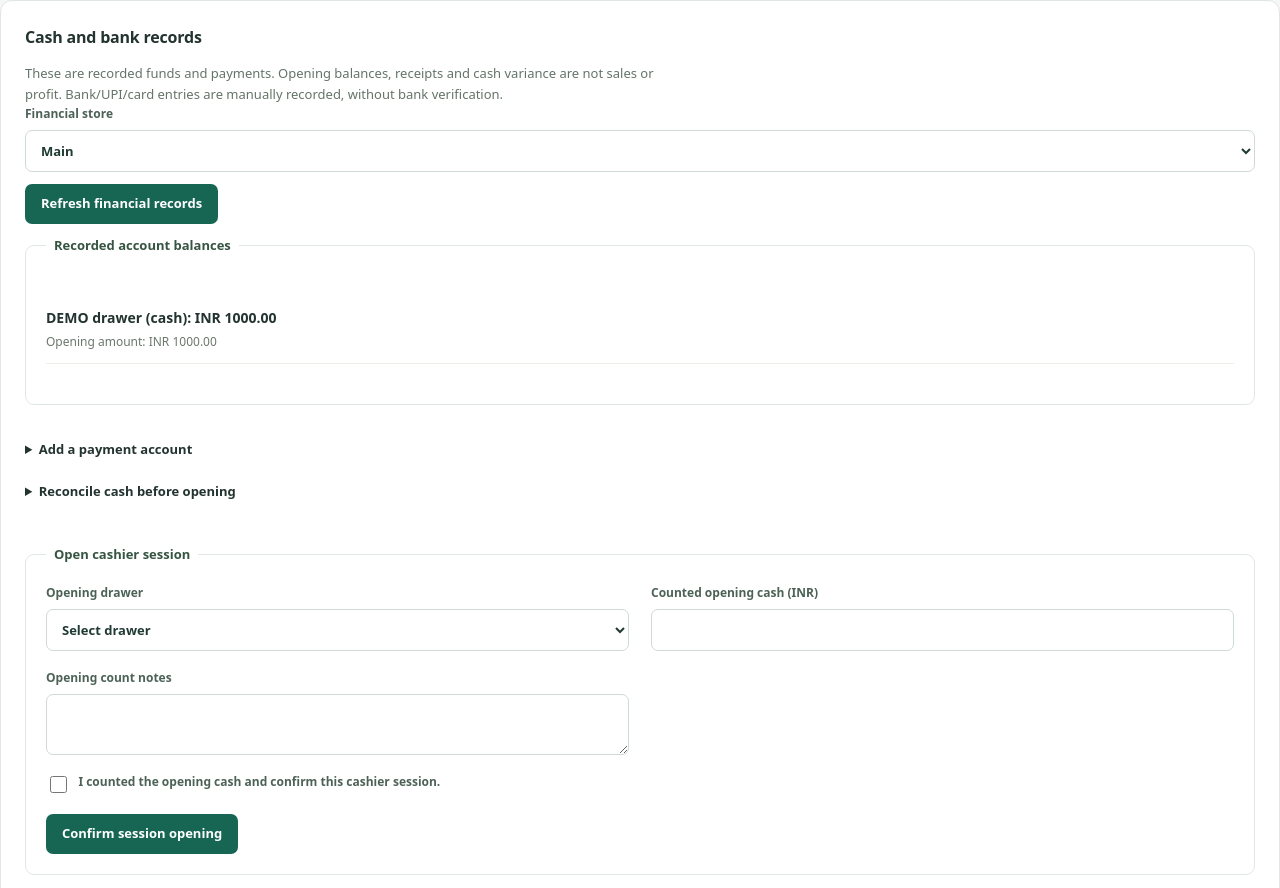
Scenario: expense and cashier finance flows › records owner-reviewed opening differences separately from receipts or expenses
Step 1. Click the heading "Reconcile cash before opening" → (137,491), box [39,482,236,500]
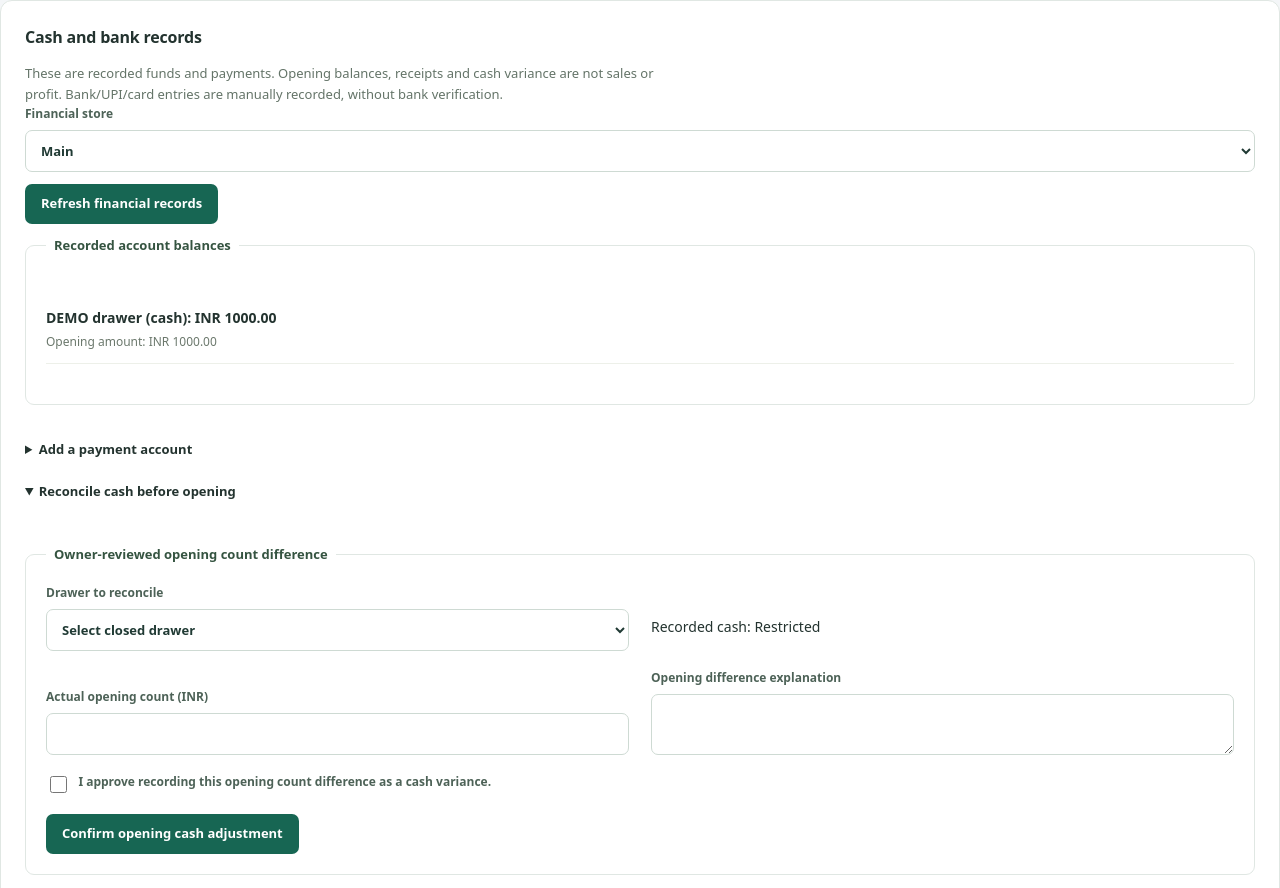
Step 2. Select "DEMO drawer" in the dropdown labelled "Drawer to reconcile" → (338,630), box [46,609,629,651]
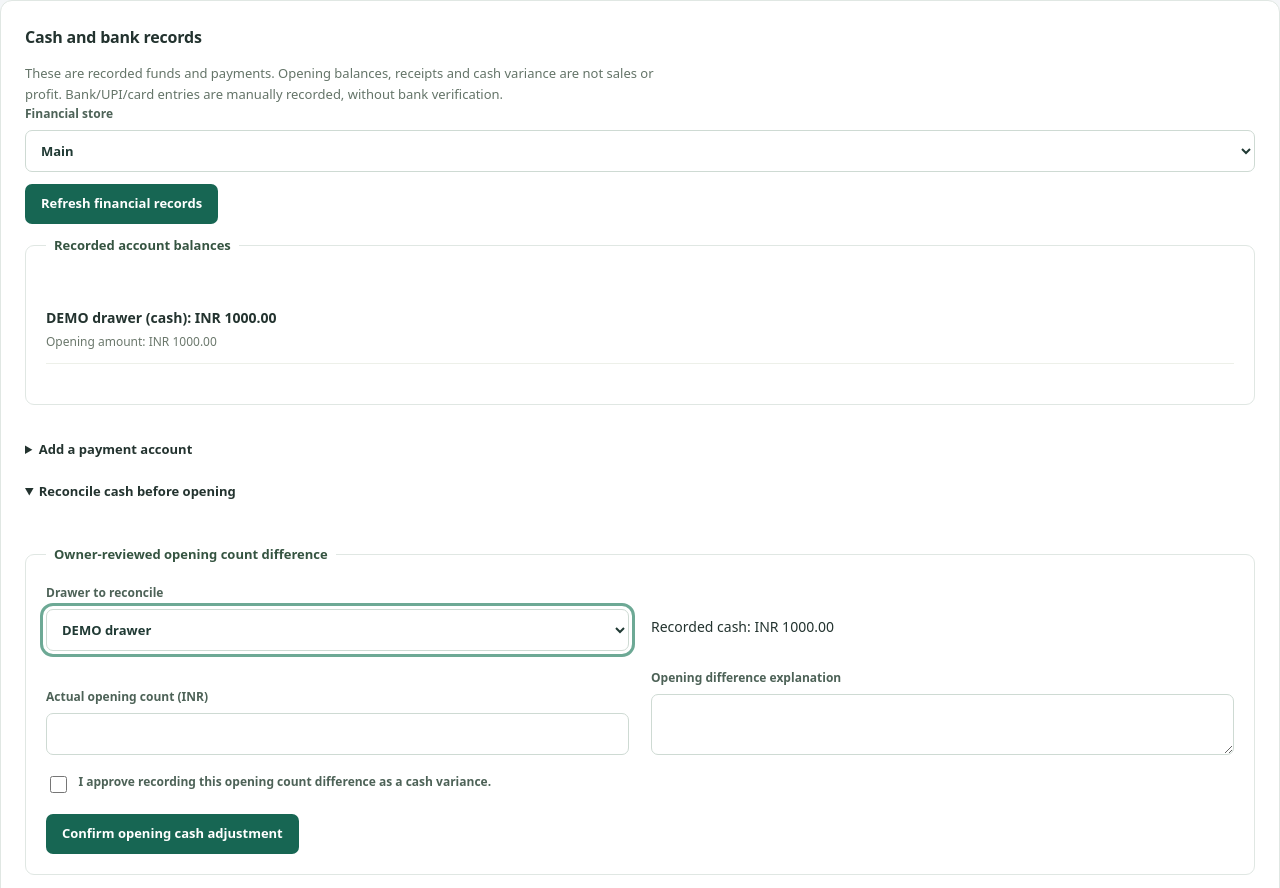
Step 3. Type "990.00" into the field labelled "Actual opening count (INR)" → (338,734), box [46,713,629,755]
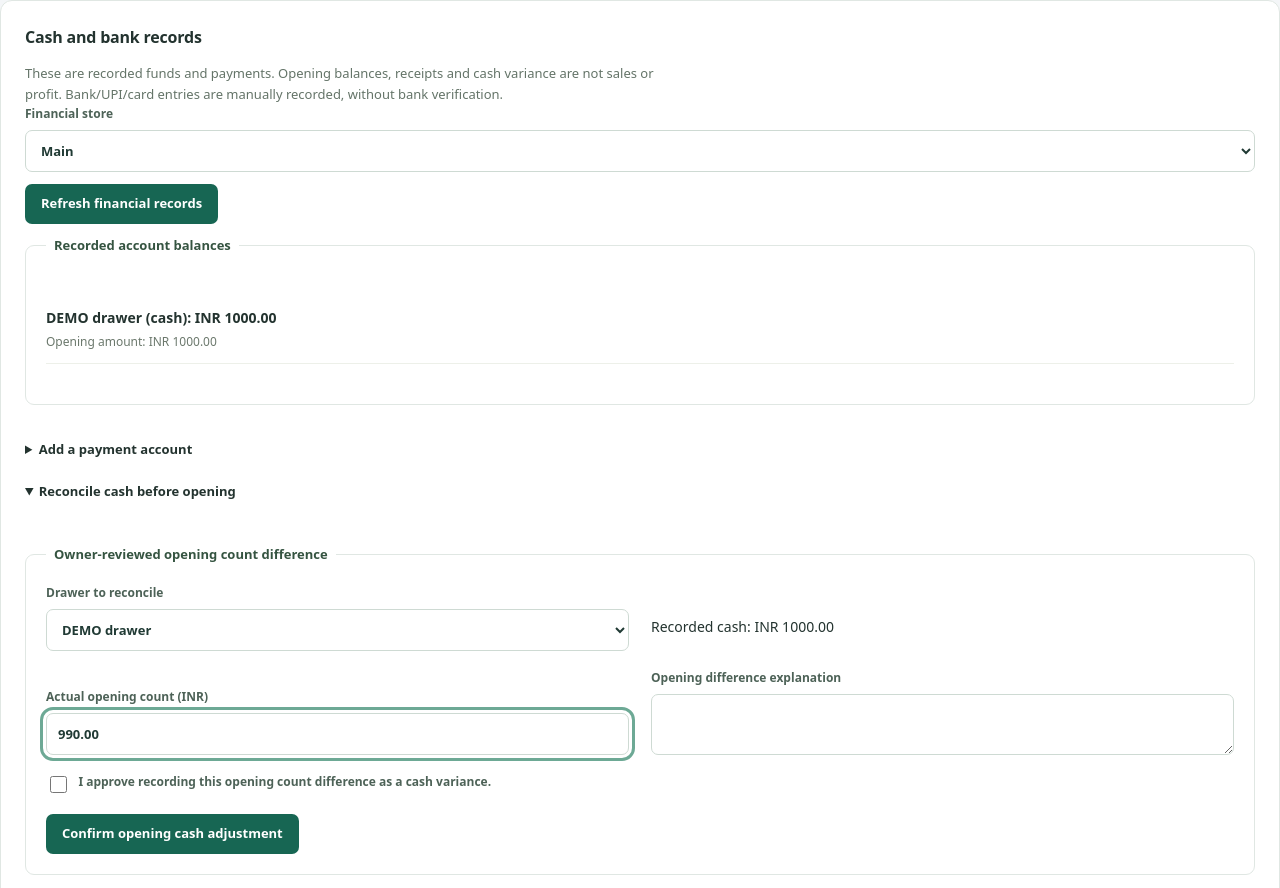
Step 4. Type "Synthetic opening shortage" into the text box labelled "Opening difference explanation" → (942,725), box [651,694,1234,755]
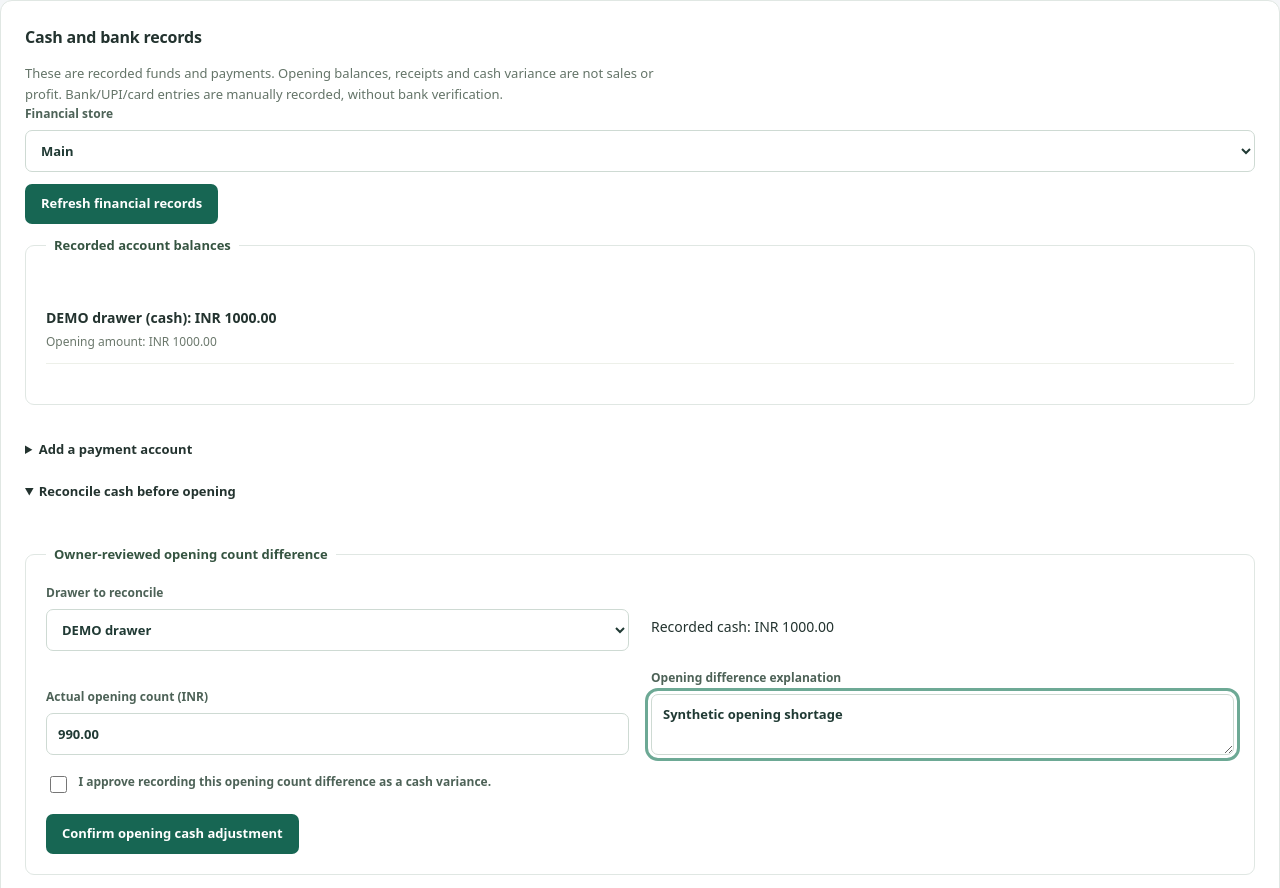
Step 5. Click the checkbox labelled "I approve recording this opening count difference" → (58,785), box [50,776,67,793]
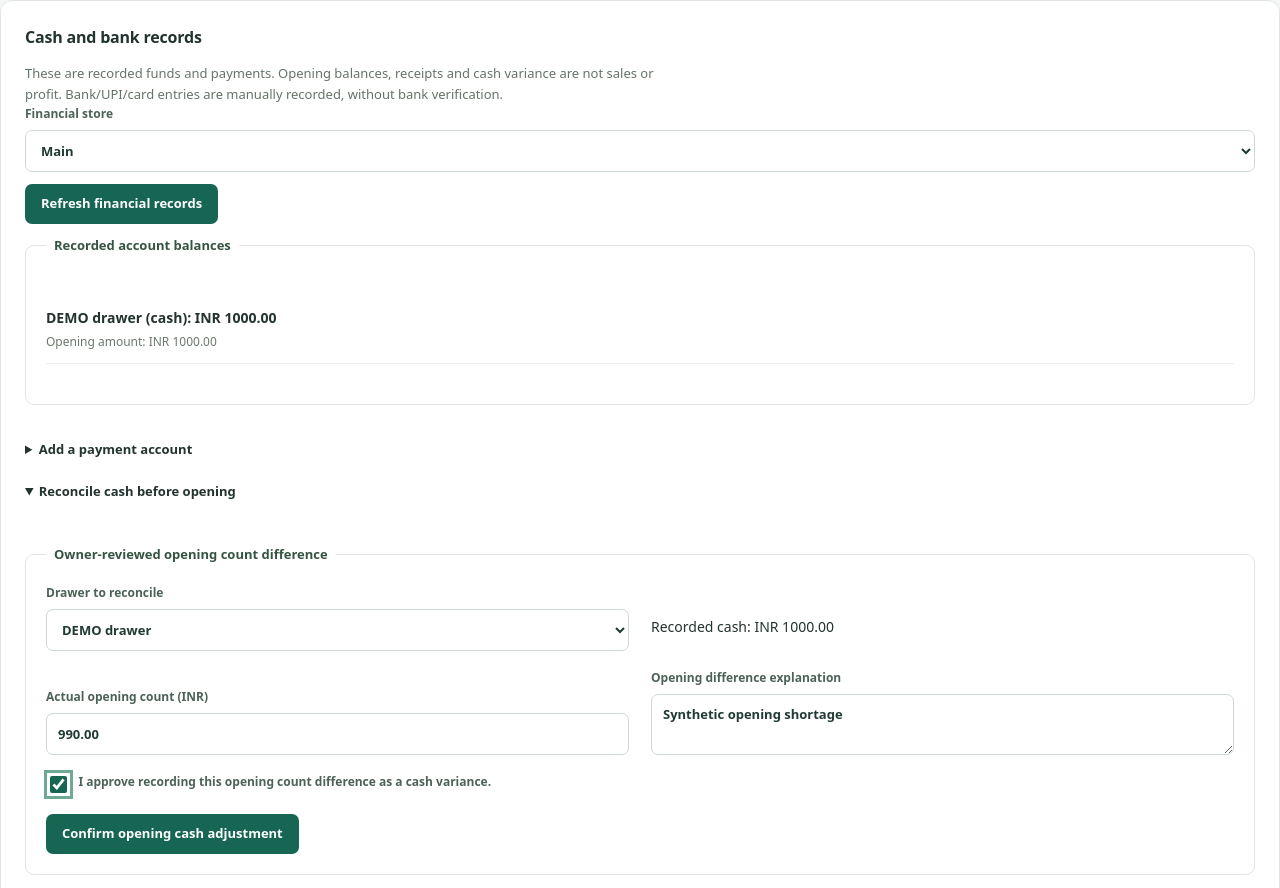
Step 6. Click the button "Confirm opening cash adjustment" → (172,834), box [46,814,299,854]
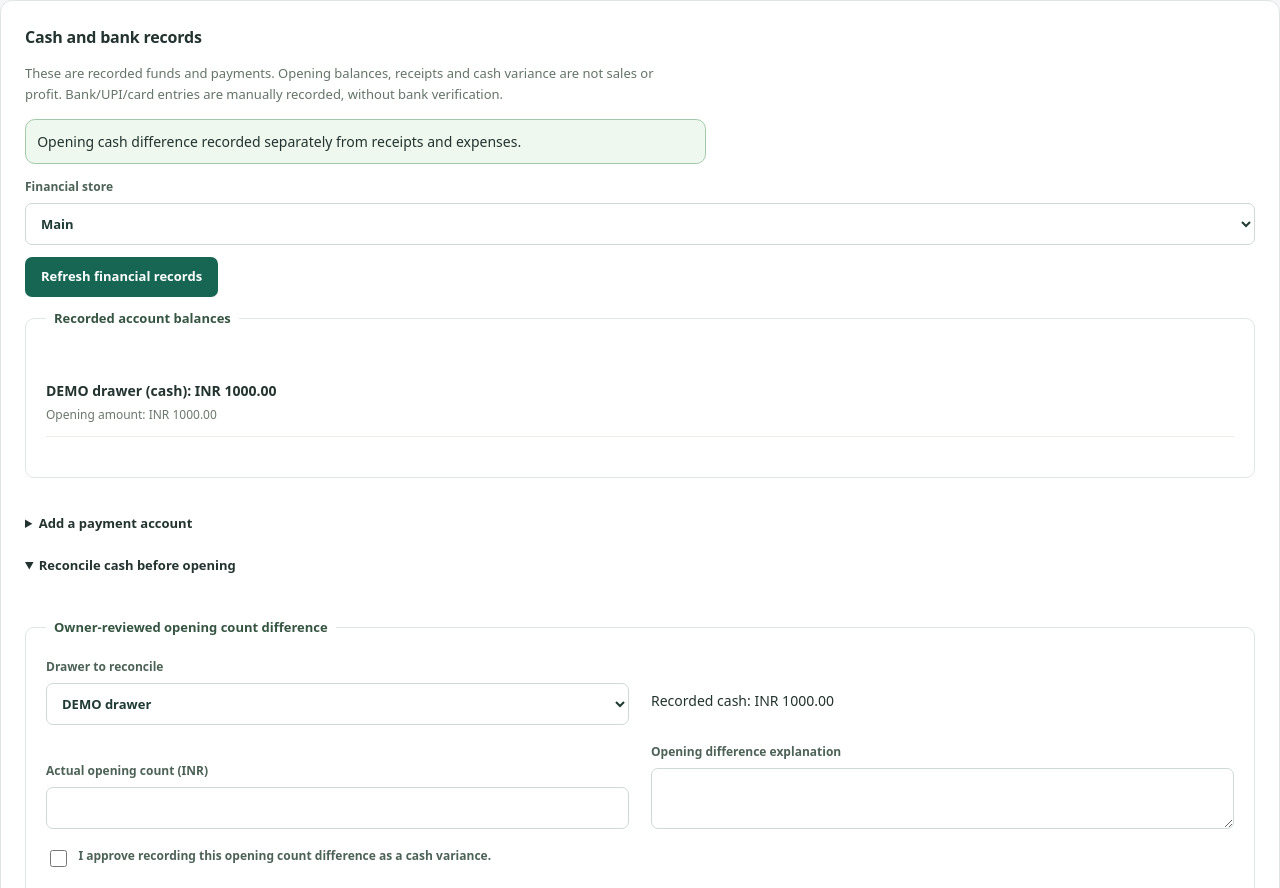
Now the message reads "Opening cash difference recorded separately from receipts and expenses.", box [37,132,521,151]
